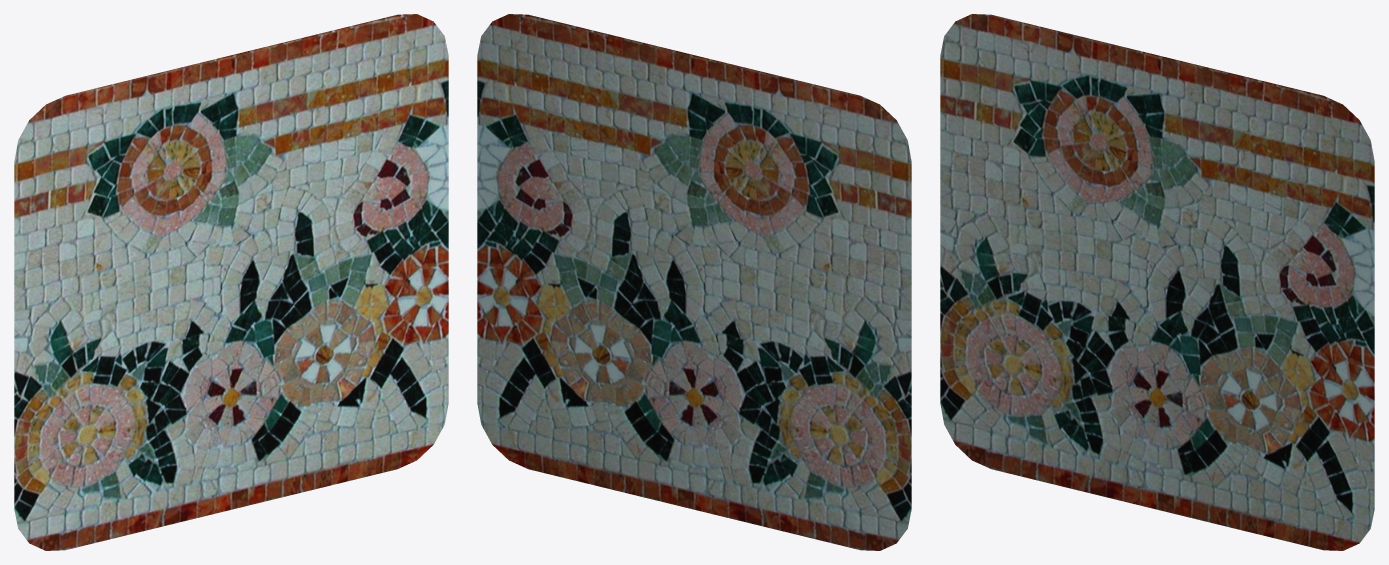
Rendered from Plano.gltf.
3 renders of one model, left to right at view 1: azimuth 30°, elevation 25°; view 2: azimuth 150°, elevation 25°; view 3: azimuth 330°, elevation 25°, orthographic.
Parts seen in each view (by area): view 1: Plano; view 2: Plano; view 3: Plano.
Part boxes in pixels (bbox=[...]): Plano: bbox=[14, 14, 448, 550]; Plano: bbox=[477, 14, 911, 550]; Plano: bbox=[940, 14, 1374, 550].
Bounding box in the file's own units: 2 × 2 × 4.44e-16.
Materials: 1 (1 with a texture image).
